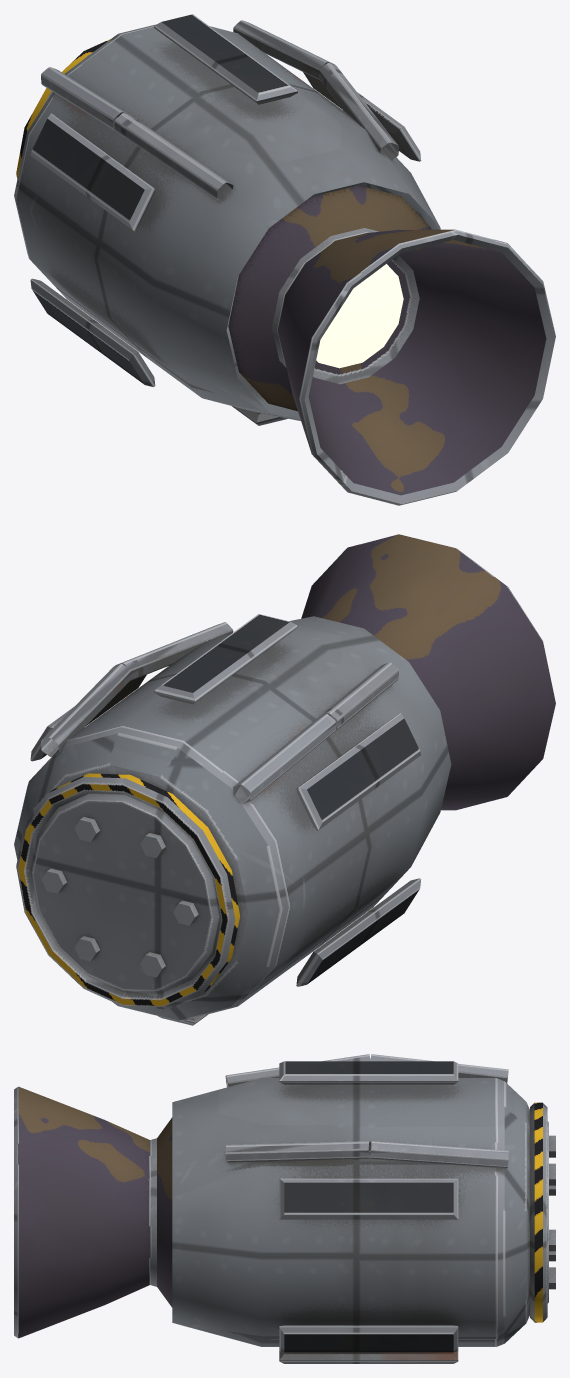
Rendered from motor_quimico_t1.fbx.
3 views of the same model, one above another, from view 1: azimuth 30°, elevation 25°; view 2: azimuth 150°, elevation 25°; view 3: azimuth 270°, elevation 25° (orthographic). The views are drawn at different scales.
Visible parts, largest first — view 1: motor_quimico_t1, motor_quimico_t1_neon; view 2: motor_quimico_t1; view 3: motor_quimico_t1.
Part boxes in pixels (box(x1,y1,x2,y2)): motor_quimico_t1: box(14, 14, 555, 505); motor_quimico_t1_neon: box(316, 264, 403, 368); motor_quimico_t1: box(14, 534, 555, 1025); motor_quimico_t1: box(14, 1054, 555, 1363).
Size of the model in its own units: 2.13 by 2.32 by 3.94.
